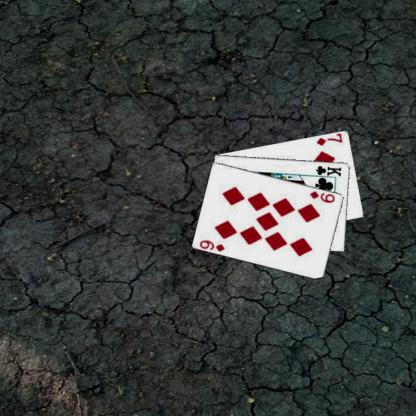7D: (314, 132, 344, 146)
9D: (308, 188, 336, 204), (197, 238, 226, 252)
KC: (311, 163, 342, 179)
